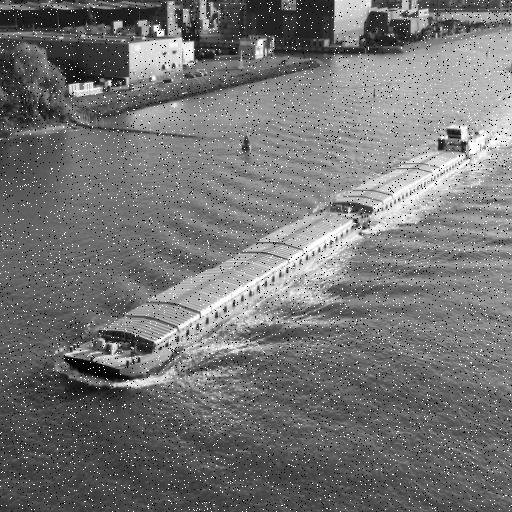tugboat: (434, 122, 492, 163)
